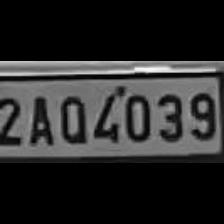0: (118, 88, 152, 141)
2: (0, 90, 23, 146)
3: (153, 88, 183, 141)
4: (89, 86, 121, 144)
9: (184, 86, 216, 140)
A: (22, 90, 54, 146)
Q: (55, 90, 90, 144)
